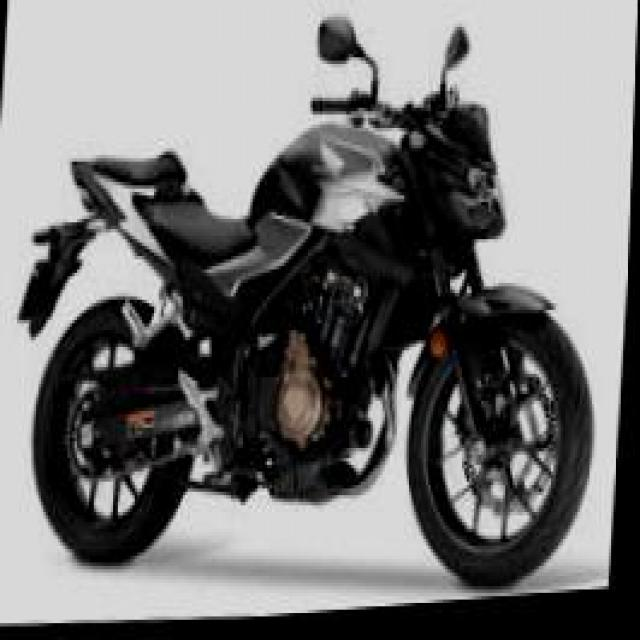CB500F: (5, 82, 618, 635)
